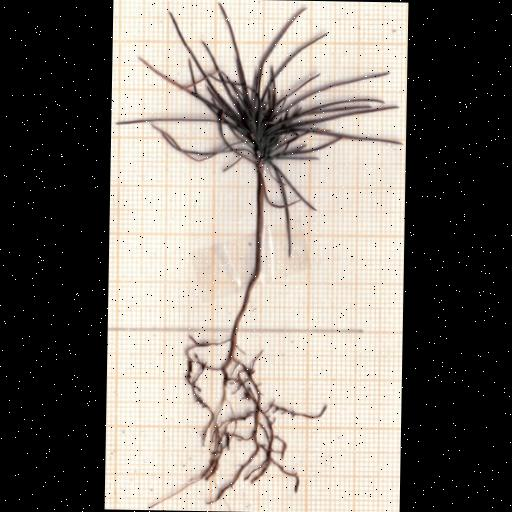flowerCedr: (118, 6, 399, 238)
rootCedr: (181, 336, 324, 502)
stemCedr: (229, 173, 264, 348)
